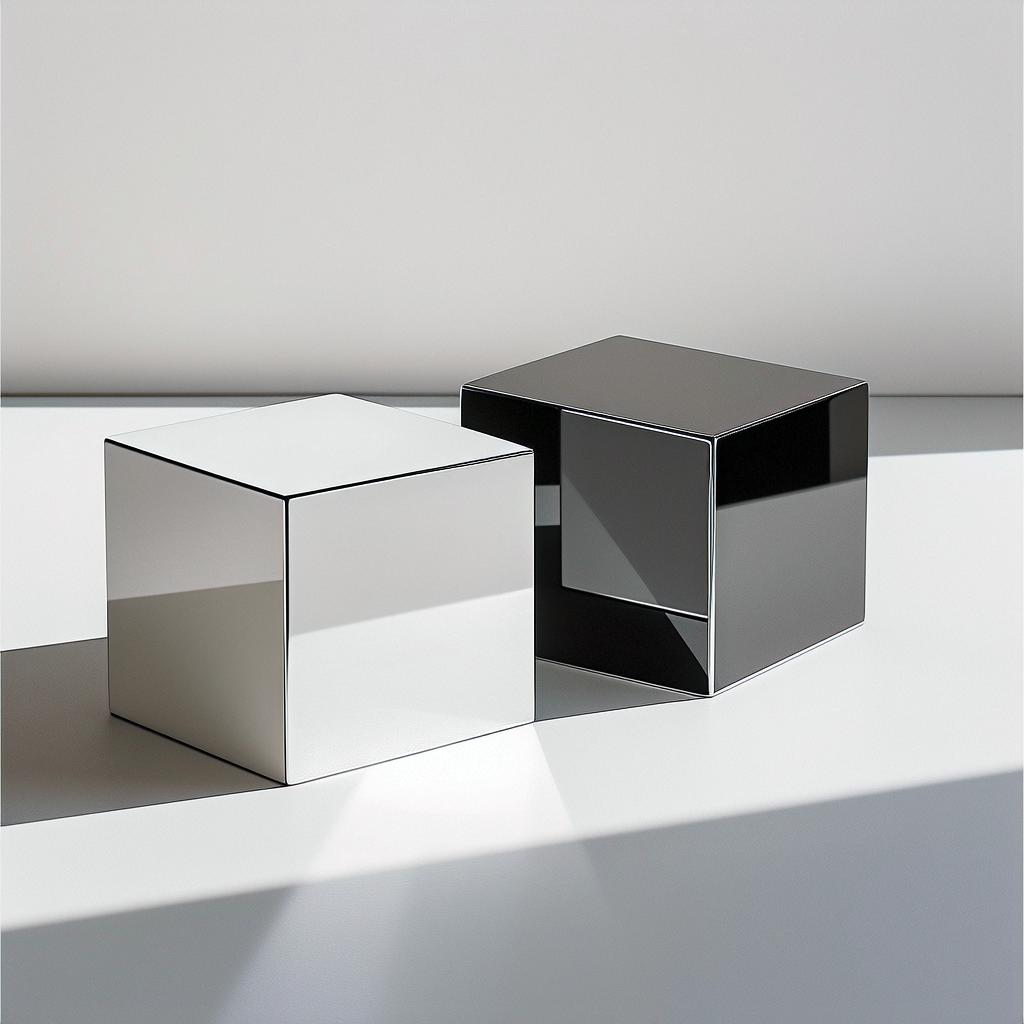cube: (102, 391, 536, 785), (459, 332, 869, 699)
